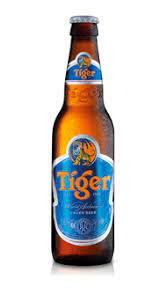glass: (49, 15, 115, 267)
